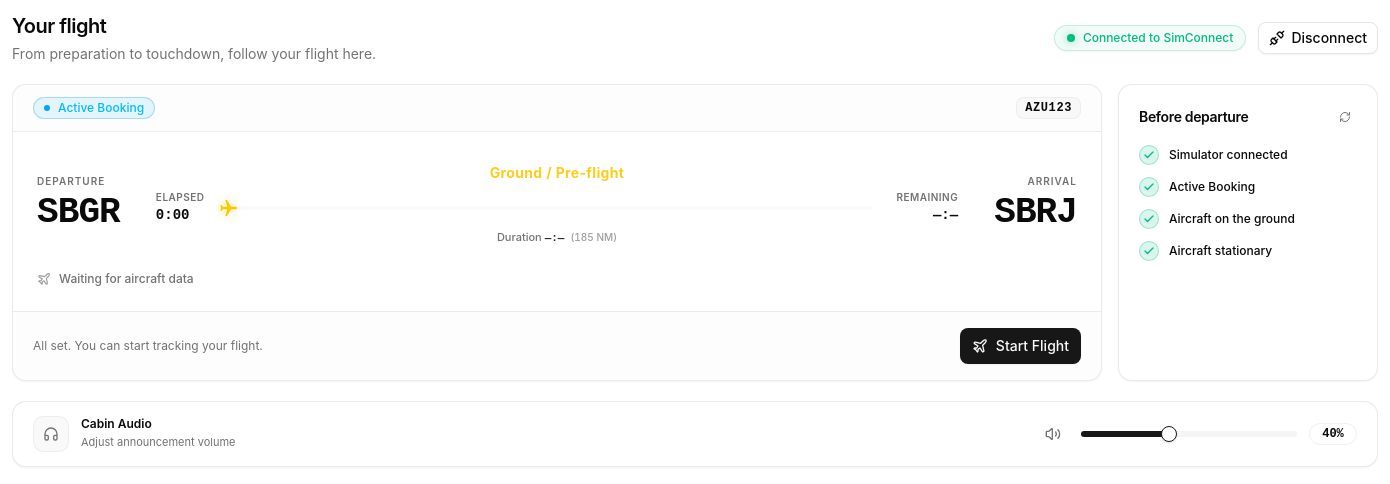
Test case: mutes and restores the pilot's selected volume
Step 1. Click the button named "Mute audio" → click(1053, 434), box left=1037, top=418, right=1069, bottom=450
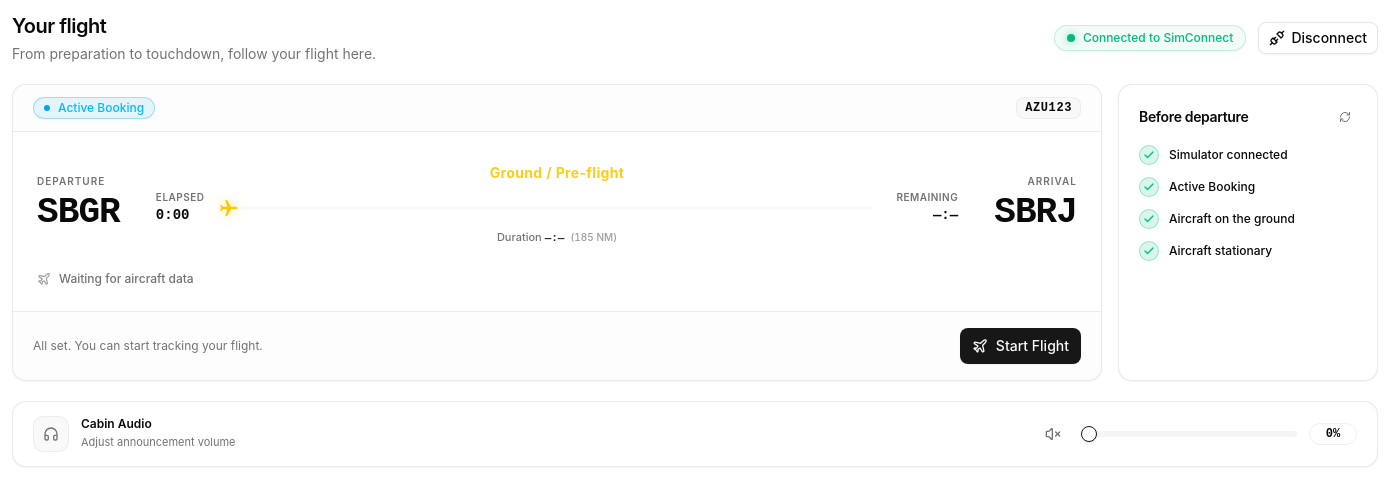
Expected: the text "0%" is shown, left=1309, top=422, right=1357, bottom=444
Step 2. Click the button named "Unmute audio" → click(1053, 434), box left=1037, top=418, right=1069, bottom=450
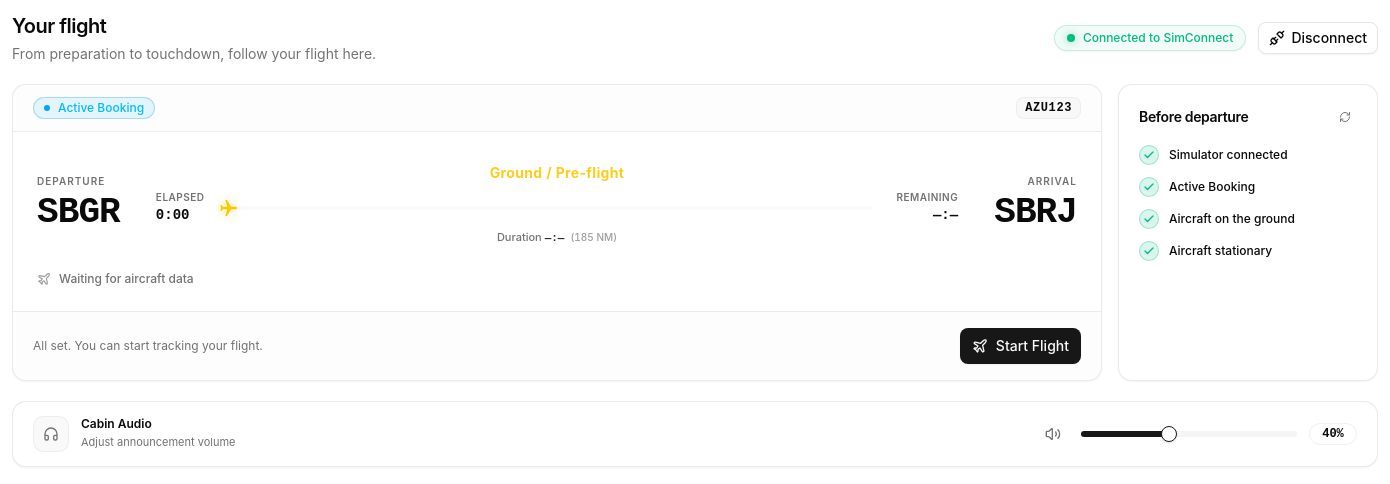
Expected: the text "40%" is shown, left=1309, top=422, right=1357, bottom=444
